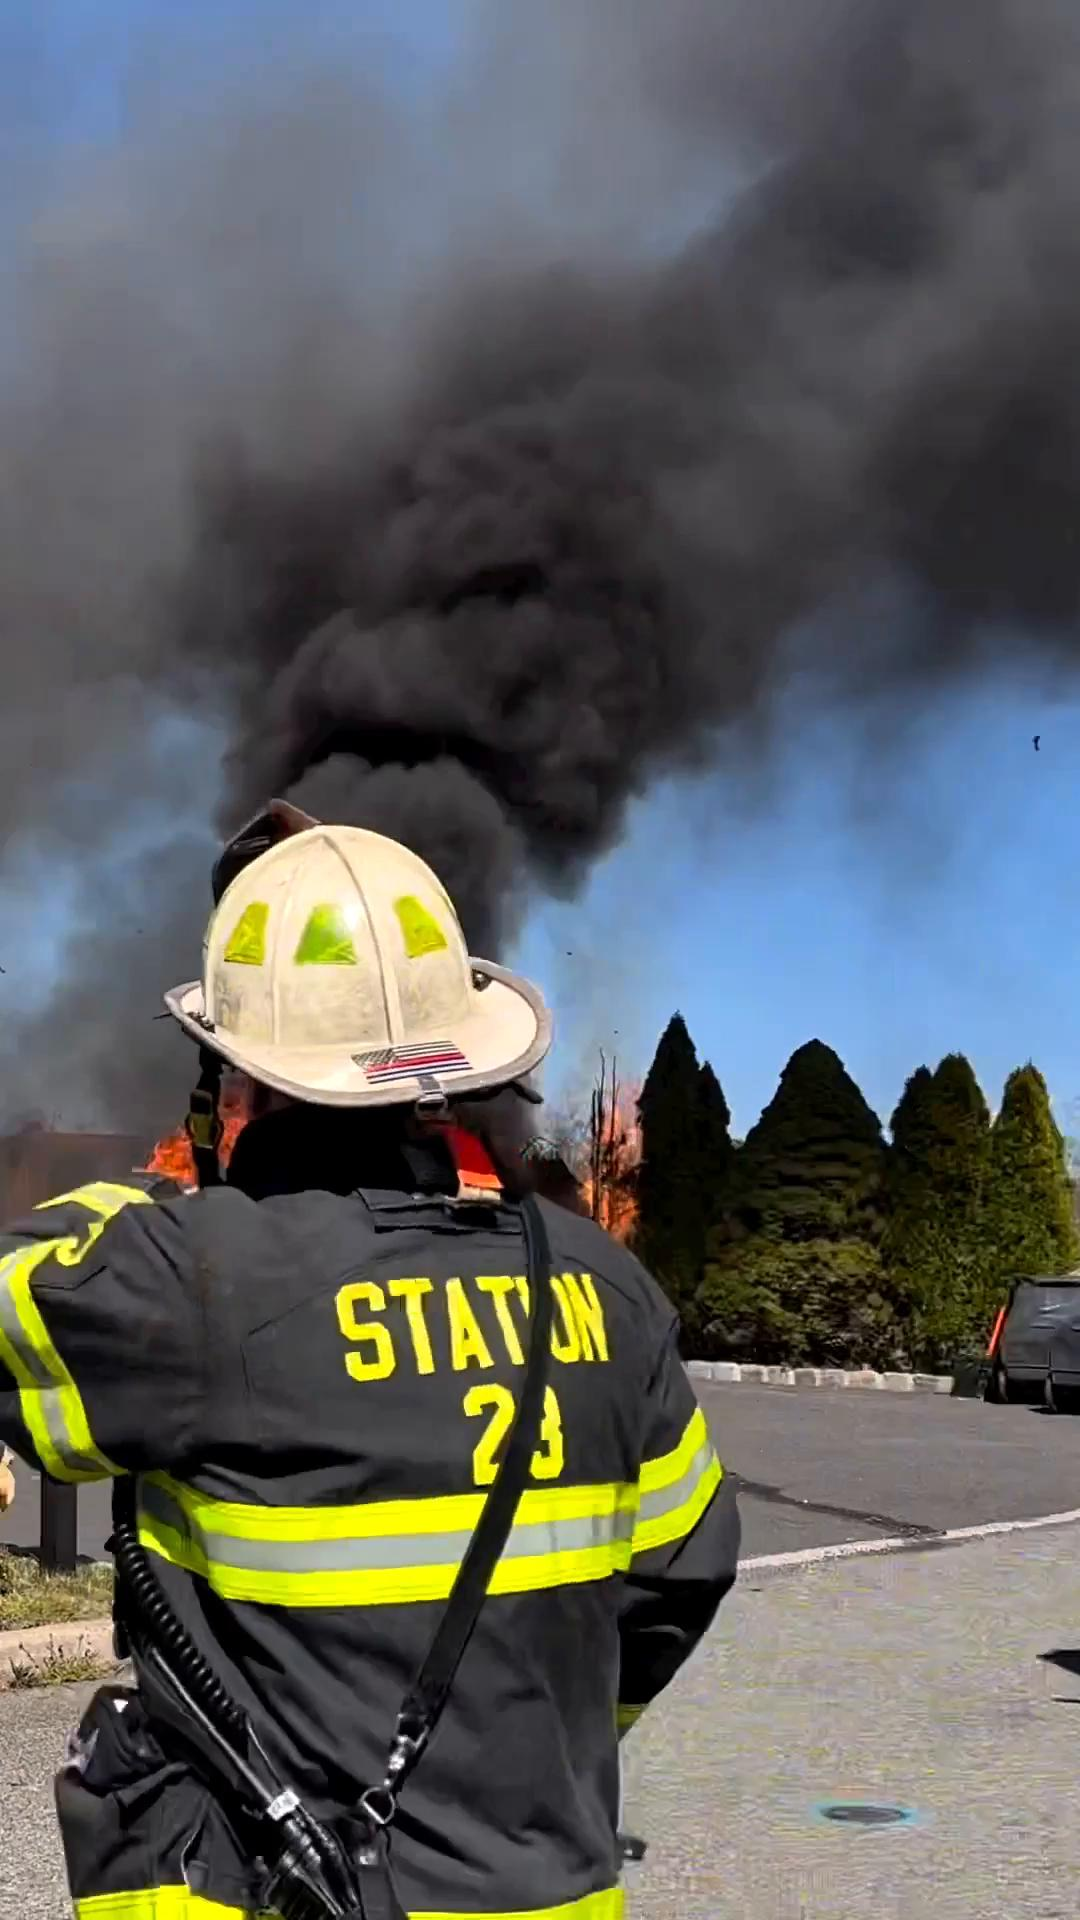smoke: (265, 327, 725, 873)
